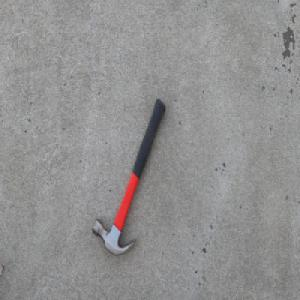Hammer: (92, 97, 166, 256)
